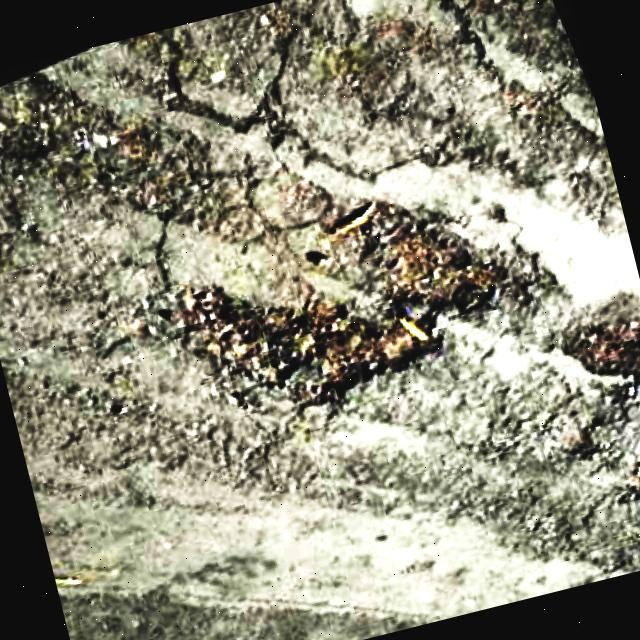pothole: (163, 204, 539, 434), (0, 45, 233, 247), (554, 290, 640, 435), (390, 0, 545, 63), (613, 442, 640, 542)
